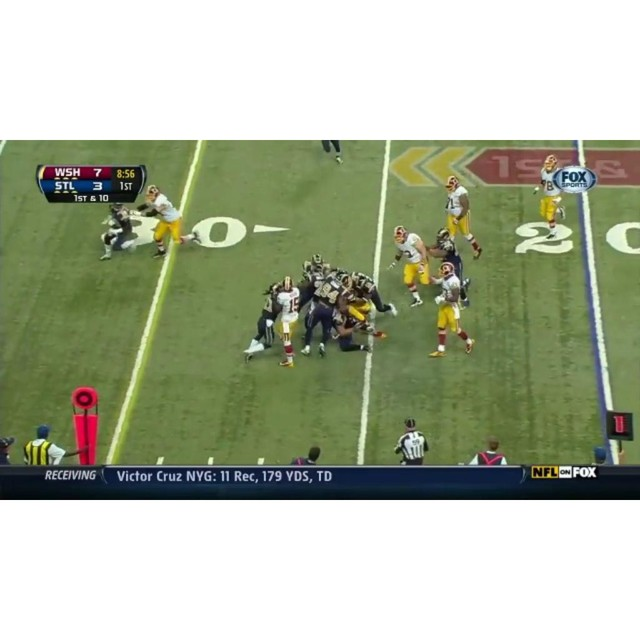american-football-player: (139, 185, 199, 260), (430, 263, 475, 357), (242, 280, 286, 364), (301, 274, 344, 358), (389, 226, 431, 307), (444, 175, 482, 260), (533, 155, 566, 239), (274, 280, 302, 366), (99, 203, 139, 260), (341, 283, 381, 338), (355, 271, 399, 321), (428, 228, 465, 285), (298, 253, 330, 308)
